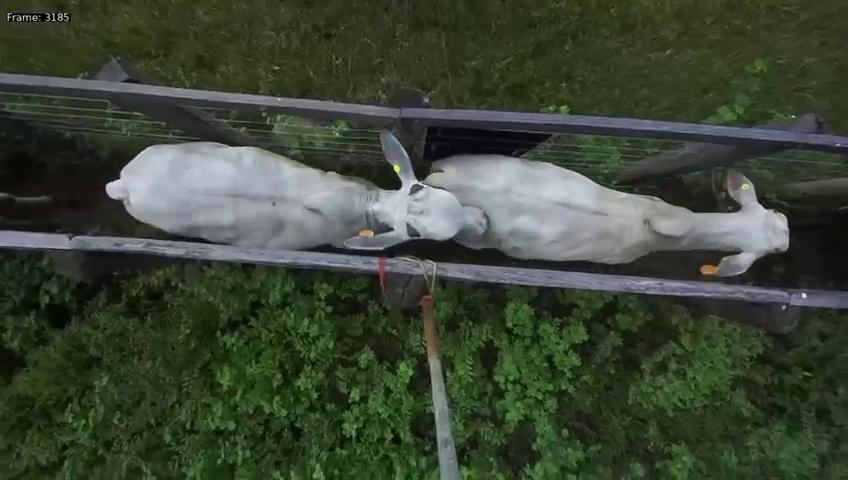cattle: (100, 122, 498, 255), (419, 140, 795, 279)
